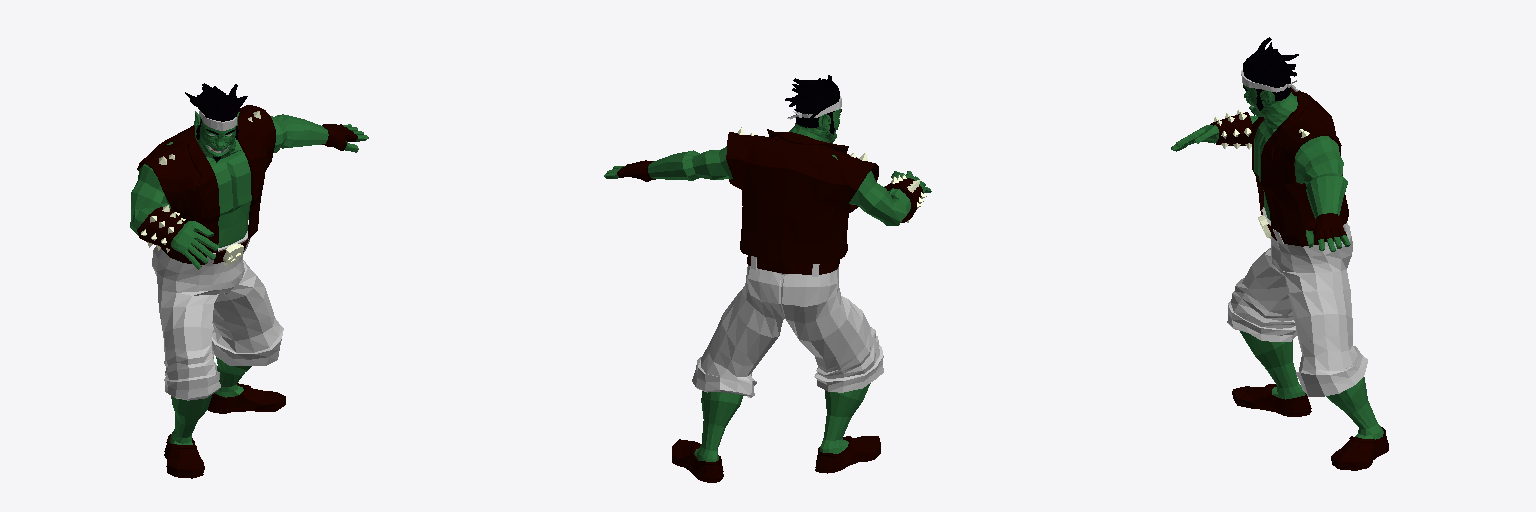
Rendered from Sid_sketchfab.obj.
3 views of the same model, side by side, from view 1: azimuth 30°, elevation 25°; view 2: azimuth 150°, elevation 25°; view 3: azimuth 270°, elevation 25° (orthographic).
Visible parts, largest first — view 1: Sid_lp Character sid_cloth_mesh, Sid_lp Character sid_leather_mesh, sid_body_mesh Sid_lp Character, Sid_lp Character sid_hair_mesh, Sid_lp Character sid_boneOrnaments_mesh; view 2: Sid_lp Character sid_leather_mesh, Sid_lp Character sid_cloth_mesh, sid_body_mesh Sid_lp Character, Sid_lp Character sid_hair_mesh; view 3: Sid_lp Character sid_cloth_mesh, Sid_lp Character sid_leather_mesh, sid_body_mesh Sid_lp Character, Sid_lp Character sid_hair_mesh, Sid_lp Character sid_boneOrnaments_mesh.
Part boxes in pixels (x1,y1,x2,y2): Sid_lp Character sid_cloth_mesh: (152,111,283,400); Sid_lp Character sid_leather_mesh: (137,105,357,478); sid_body_mesh Sid_lp Character: (130,111,368,444); Sid_lp Character sid_hair_mesh: (185,83,247,162); Sid_lp Character sid_boneOrnaments_mesh: (141,111,260,265); Sid_lp Character sid_leather_mesh: (617,129,922,482); Sid_lp Character sid_cloth_mesh: (692,96,883,397); sid_body_mesh Sid_lp Character: (604,109,931,461); Sid_lp Character sid_hair_mesh: (785,75,841,134); Sid_lp Character sid_cloth_mesh: (1227,70,1367,396); Sid_lp Character sid_leather_mesh: (1210,88,1388,470); sid_body_mesh Sid_lp Character: (1171,84,1383,439); Sid_lp Character sid_hair_mesh: (1243,37,1298,115); Sid_lp Character sid_boneOrnaments_mesh: (1214,109,1309,238).
Size of the model in its own units: 183 by 247 by 129.